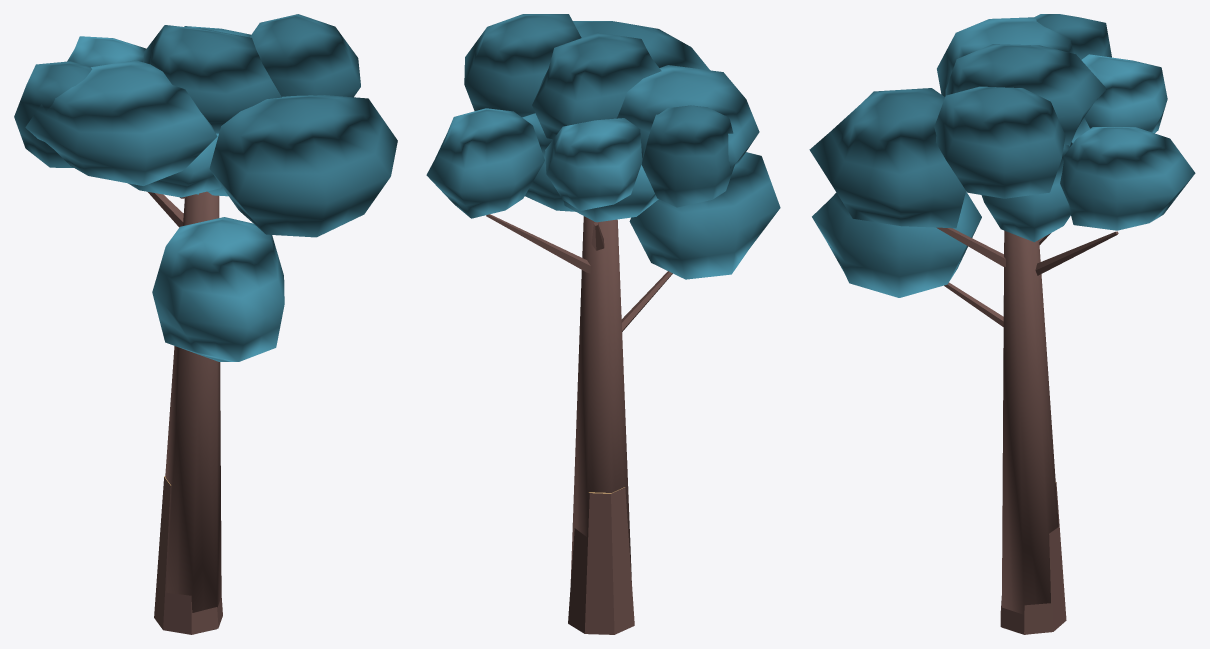
File: Treetest.glb
3 views of the same model, side by side, from view 1: azimuth 30°, elevation 25°; view 2: azimuth 150°, elevation 25°; view 3: azimuth 270°, elevation 25° (orthographic). The views are drawn at different scales.
Parts seen in each view (by area): view 1: EF_LowPolyTree_1001_Leaves, EF_LowPolyTree_1001_Trunk, EF_LowPolyTree_1001_DepletedStump; view 2: EF_LowPolyTree_1001_Leaves, EF_LowPolyTree_1001_Trunk, EF_LowPolyTree_1001_DepletedStump, EF_LowPolyTree_1001_Branches; view 3: EF_LowPolyTree_1001_Leaves, EF_LowPolyTree_1001_Trunk, EF_LowPolyTree_1001_DepletedStump, EF_LowPolyTree_1001_Branches.
Part boxes in pixels (x1,y1,x2,y2): EF_LowPolyTree_1001_Leaves: [14, 14, 397, 361]; EF_LowPolyTree_1001_Trunk: [165, 191, 221, 632]; EF_LowPolyTree_1001_DepletedStump: [154, 476, 222, 634]; EF_LowPolyTree_1001_Leaves: [426, 14, 780, 279]; EF_LowPolyTree_1001_Trunk: [570, 216, 631, 582]; EF_LowPolyTree_1001_DepletedStump: [568, 487, 634, 634]; EF_LowPolyTree_1001_Branches: [486, 214, 672, 331]; EF_LowPolyTree_1001_Leaves: [809, 14, 1195, 297]; EF_LowPolyTree_1001_Trunk: [1002, 230, 1058, 634]; EF_LowPolyTree_1001_DepletedStump: [1000, 482, 1066, 634]; EF_LowPolyTree_1001_Branches: [936, 227, 1118, 326].
Bounding box in the file's own units: 2.29 × 4.2 × 2.55.
